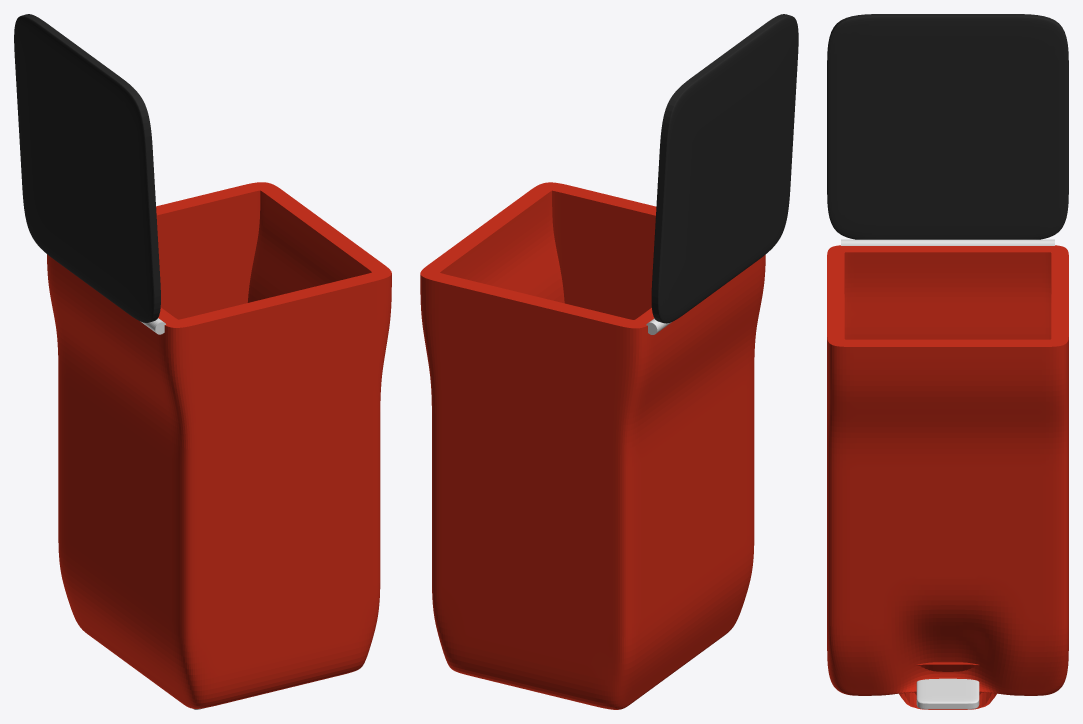
File: poubelleRed.fbx
The picture shows the model from 3 angles, left to right: view 1: azimuth 30°, elevation 25°; view 2: azimuth 150°, elevation 25°; view 3: azimuth 270°, elevation 25°; orthographic projection. The views are drawn at different scales.
Parts seen in each view (by area): view 1: Cube.001_Cube.003; view 2: Cube.001_Cube.003; view 3: Cube.001_Cube.003.
Boxes of the visible parts, x1,y1,x2,y2 form: Cube.001_Cube.003: (14,14,391,709); Cube.001_Cube.003: (420,14,798,709); Cube.001_Cube.003: (827,14,1068,709).
Size of the model in its own units: 231 by 550 by 200.
